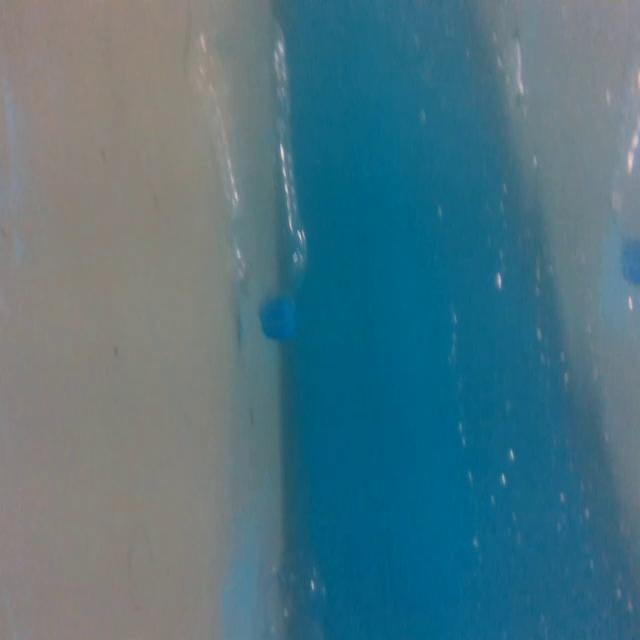plastic bottle: (184, 9, 324, 347)
